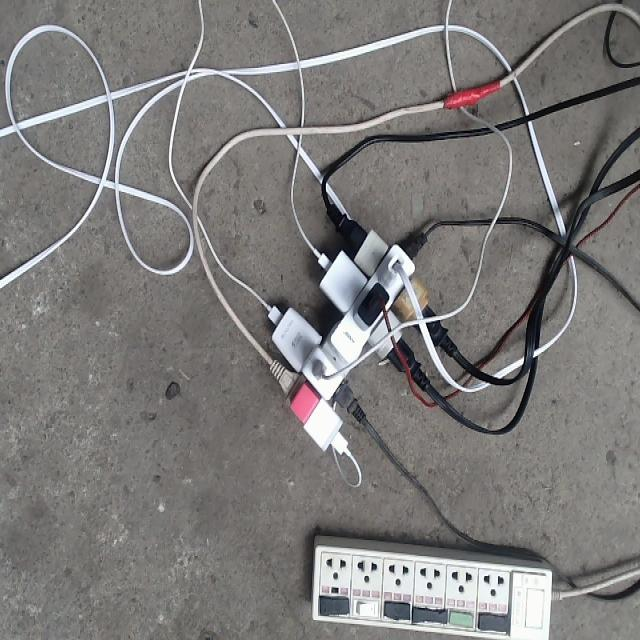-: (273, 225, 426, 451)
